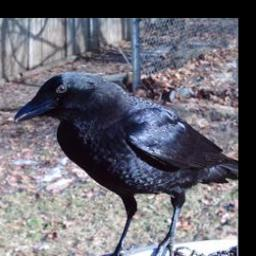Crow: (14, 71, 238, 256)
